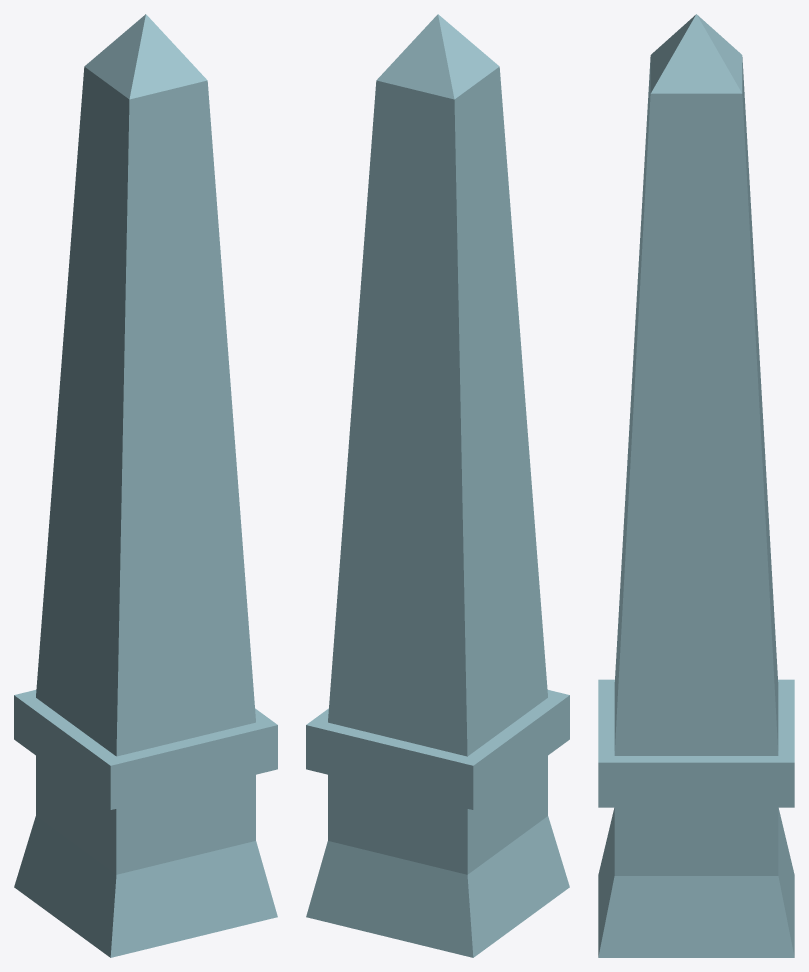
File: d_kenney_stele_haute.glb
3 renders of one model, left to right at view 1: azimuth 30°, elevation 25°; view 2: azimuth 150°, elevation 25°; view 3: azimuth 270°, elevation 25°, orthographic.
Parts seen in each view (by area): view 1: d_kenney_stele_haute; view 2: d_kenney_stele_haute; view 3: d_kenney_stele_haute.
Boxes of the visible parts, x1,y1,x2,y2 form: d_kenney_stele_haute: (14, 14, 277, 957); d_kenney_stele_haute: (306, 14, 569, 957); d_kenney_stele_haute: (598, 14, 794, 957).
Size of the model in its own units: 0.2061 by 1.05 by 0.2061.
Materials: 1 (1 with a texture image).
